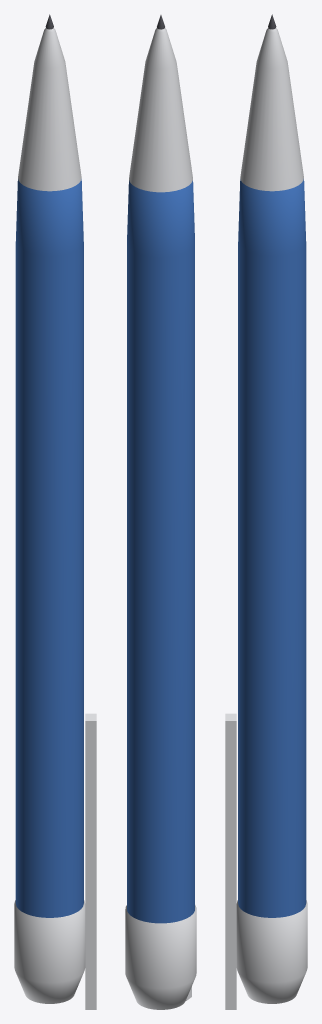
File: pen.glb
The picture shows the model from 3 angles, left to right: view 1: azimuth 90°, elevation 25°; view 2: azimuth 150°, elevation 25°; view 3: azimuth 270°, elevation 25°; orthographic projection.
Parts seen in each view (by area): view 1: pen; view 2: pen; view 3: pen.
Part boxes in pixels (x1=…): pen: x1=14, y1=14, x2=96, y2=1009; pen: x1=125, y1=15, x2=196, y2=1009; pen: x1=225, y1=14, x2=307, y2=1009.
Size of the model in its own units: 0.01 by 0.1545 by 0.0116.
